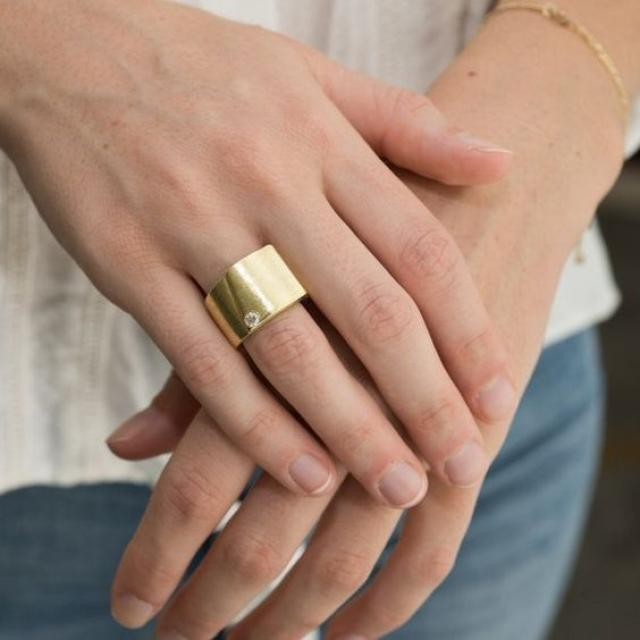Fingernail: (289, 453, 332, 495), (380, 464, 422, 506), (446, 444, 486, 488), (480, 374, 517, 421), (105, 408, 156, 441), (113, 595, 152, 629)
